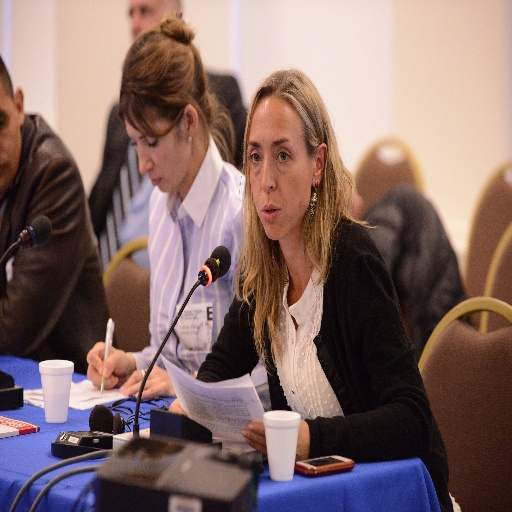hand: (242, 418, 308, 463), (86, 340, 133, 393), (117, 363, 176, 400), (168, 395, 184, 414)
